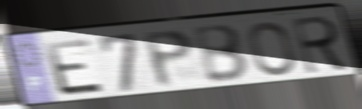7: (95, 31, 140, 95)
B: (190, 23, 253, 85)
E: (41, 36, 108, 98)
O: (246, 19, 298, 78)
P: (139, 27, 195, 90)
R: (290, 13, 353, 76)
